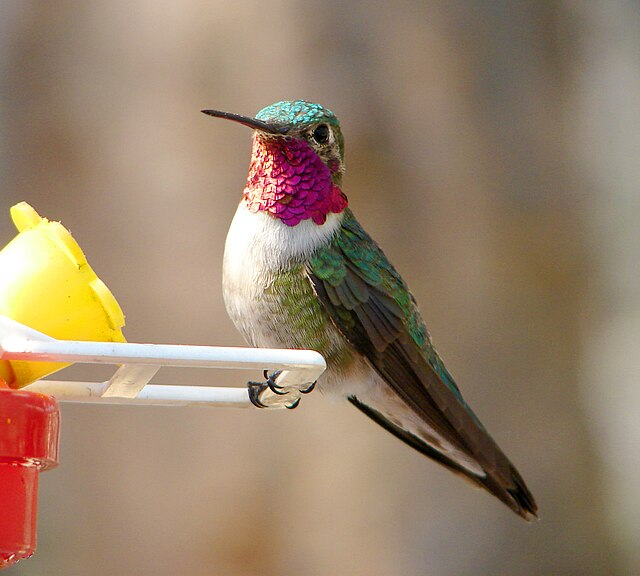selasphorus platycercus: (197, 89, 540, 519)
